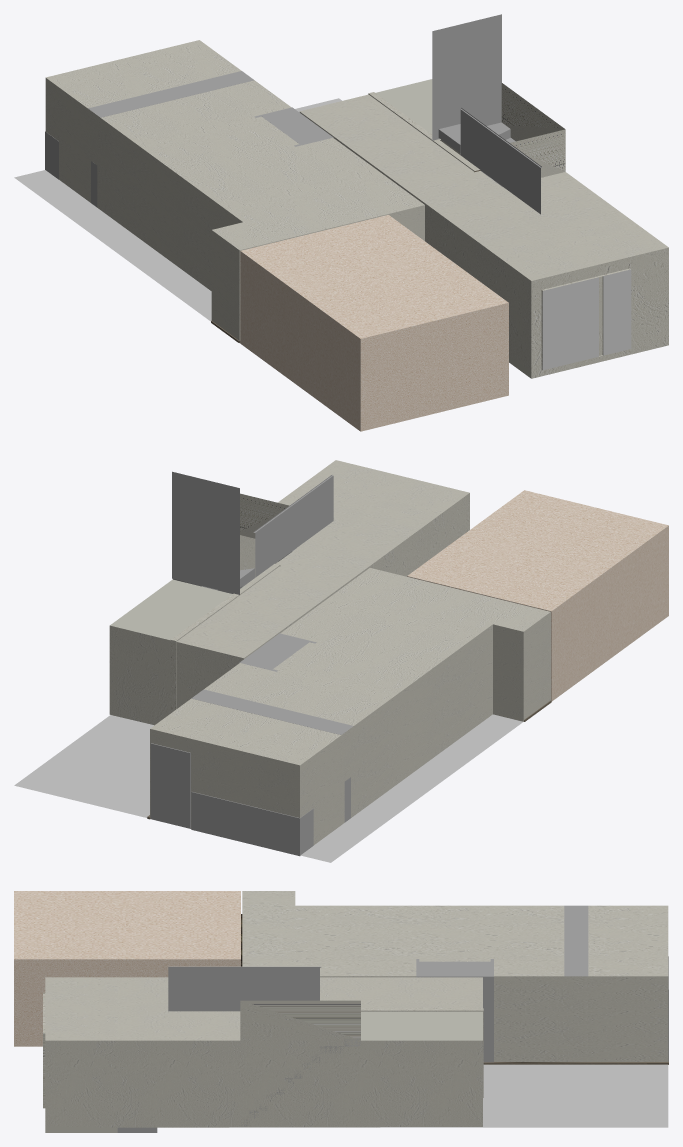
File: House.fbx
3 views of the same model, one above another, from view 1: azimuth 30°, elevation 25°; view 2: azimuth 150°, elevation 25°; view 3: azimuth 270°, elevation 25° (orthographic). The views are drawn at different scales.
Parts seen in each view (by area): view 1: pRoom, House_Ver08_tu_ro:pRoom, House_Ver08_tokoma_pRoom, House_Ver08_tu_ro:House_SecondFloor_Ver05:polySurface3, pfloor, House_Ver08_tu_ro:House_SecondFloor_Ver05:polySurface2, pshikiri, mod:pasted__tana_pCube2, House_Ver08_tu_ro:kaidan, House_Ver08_tu_ro:kaidan_kugiri; view 2: pRoom, House_Ver08_tu_ro:pRoom, House_Ver08_tokoma_pRoom, pfloor, House_Ver08_tu_ro:House_SecondFloor_Ver05:polySurface3, pshink, House_Ver08_tu_ro:House_SecondFloor_Ver05:polySurface2, pcoldBox, pshikiri, mod:pasted__tana_pCube2, House_Ver08_tu_ro:kaidan_kugiri; view 3: House_Ver08_tu_ro:pRoom, pRoom, House_Ver08_tokoma_pRoom, pfloor, House_Ver08_tu_ro:House_SecondFloor_Ver05:polySurface2, mod:pasted__tana_pCube2, pshikiri, House_Ver08_tu_ro:kaidan_kugiri, under_wall4, House_Ver08_tu_ro:kaidan.
Boxes of the visible parts, <box> form: pRoom: <box>45,40,424,340</box>; House_Ver08_tu_ro:pRoom: <box>299,79,668,378</box>; House_Ver08_tokoma_pRoom: <box>240,215,508,431</box>; House_Ver08_tu_ro:House_SecondFloor_Ver05:polySurface3: <box>432,14,501,140</box>; pfloor: <box>14,98,341,321</box>; House_Ver08_tu_ro:House_SecondFloor_Ver05:polySurface2: <box>460,108,541,214</box>; pshikiri: <box>88,71,254,117</box>; mod:pasted__tana_pCube2: <box>254,107,333,146</box>; House_Ver08_tu_ro:kaidan: <box>438,122,515,186</box>; House_Ver08_tu_ro:kaidan_kugiri: <box>368,92,480,172</box>; pRoom: <box>150,568,550,844</box>; House_Ver08_tu_ro:pRoom: <box>109,460,469,725</box>; House_Ver08_tokoma_pRoom: <box>407,490,668,701</box>; pfloor: <box>14,714,523,862</box>; House_Ver08_tu_ro:House_SecondFloor_Ver05:polySurface3: <box>172,471,239,594</box>; pshink: <box>191,792,313,856</box>; House_Ver08_tu_ro:House_SecondFloor_Ver05:polySurface2: <box>253,475,333,577</box>; pcoldBox: <box>150,743,190,828</box>; pshikiri: <box>191,689,353,734</box>; mod:pasted__tana_pCube2: <box>239,633,316,671</box>; House_Ver08_tu_ro:kaidan_kugiri: <box>170,564,280,713</box>; House_Ver08_tu_ro:pRoom: <box>43,977,482,1132</box>; pRoom: <box>242,891,668,1061</box>; House_Ver08_tokoma_pRoom: <box>14,891,240,1046</box>; pfloor: <box>229,1064,668,1127</box>; House_Ver08_tu_ro:House_SecondFloor_Ver05:polySurface2: <box>168,966,321,1011</box>; mod:pasted__tana_pCube2: <box>416,959,493,1062</box>; pshikiri: <box>564,905,588,976</box>; House_Ver08_tu_ro:kaidan_kugiri: <box>361,1008,483,1097</box>; under_wall4: <box>483,1061,668,1064</box>; House_Ver08_tu_ro:kaidan: <box>241,1038,360,1126</box>.
Bounding box in the file's own units: 8.79 × 5.37 × 16.2.
